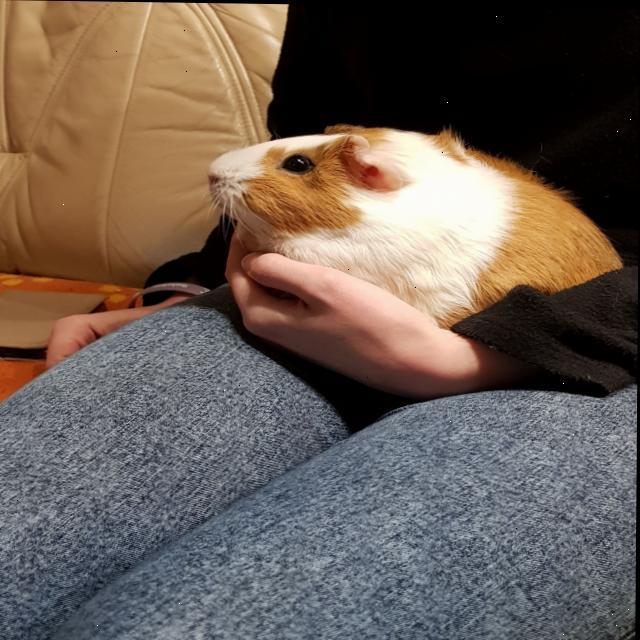guinea pig: (207, 117, 626, 333)
